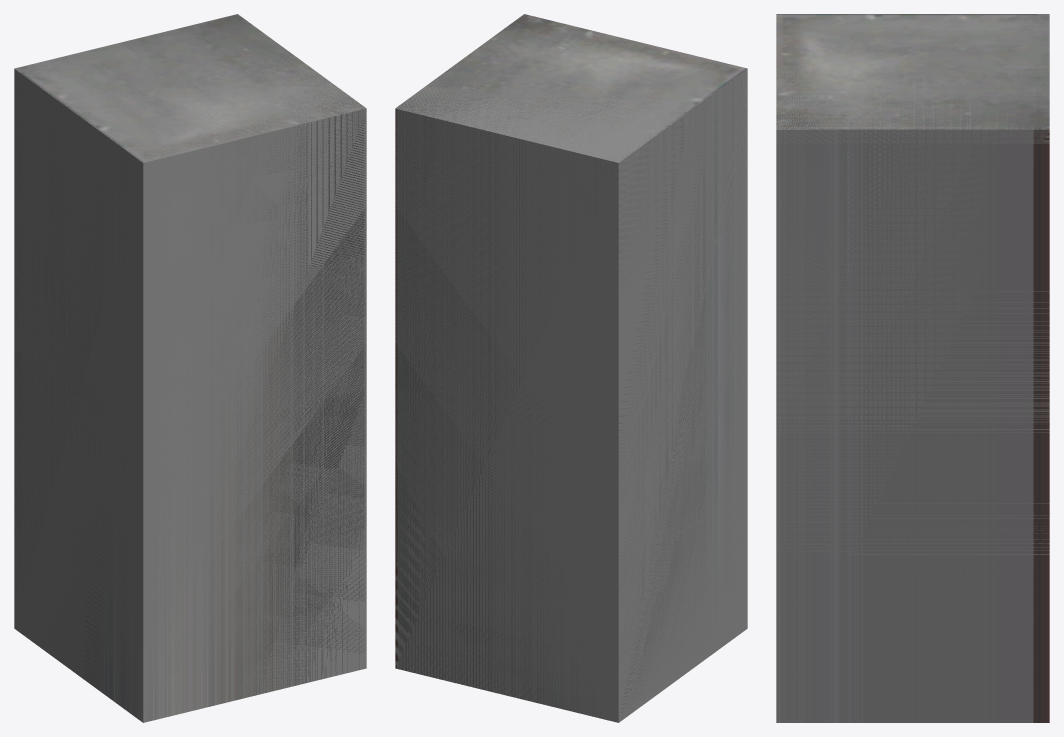
Rendered from file_cabinet.FBX.
3 views of the same model, side by side, from view 1: azimuth 30°, elevation 25°; view 2: azimuth 150°, elevation 25°; view 3: azimuth 270°, elevation 25° (orthographic). The views are drawn at different scales.
Parts seen in each view (by area): view 1: bounds, colbox-1, filing_cabinet100; view 2: bounds, colbox-1, filing_cabinet100; view 3: colbox-1, bounds, filing_cabinet100.
Part boxes in pixels (x1=…): bounds: x1=14, y1=14, x2=366, y2=717; colbox-1: x1=14, y1=77, x2=366, y2=722; filing_cabinet100: x1=14, y1=14, x2=364, y2=162; bounds: x1=395, y1=14, x2=747, y2=722; colbox-1: x1=395, y1=69, x2=747, y2=718; filing_cabinet100: x1=396, y1=14, x2=746, y2=161; colbox-1: x1=776, y1=129, x2=1049, y2=722; bounds: x1=776, y1=14, x2=1049, y2=573; filing_cabinet100: x1=776, y1=14, x2=1049, y2=129.
Bounding box in the file's own units: 80.08 × 192 × 80.08.
